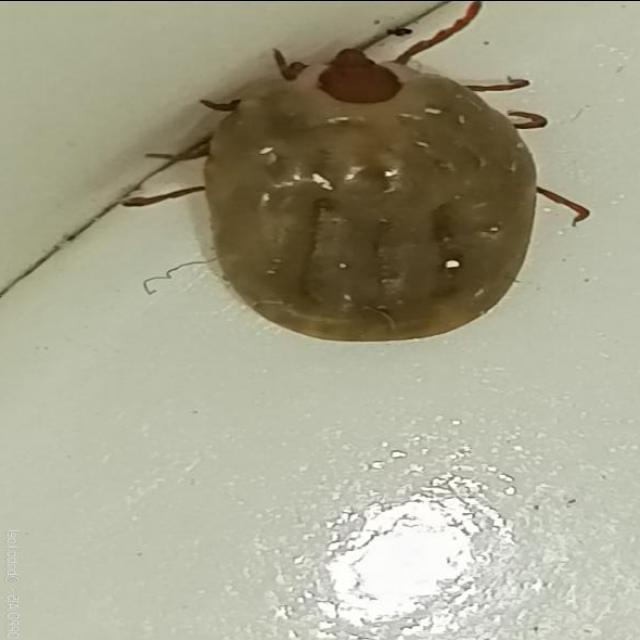Rhipicephalus Sanguineus-F-Fed: (116, 0, 597, 343)
